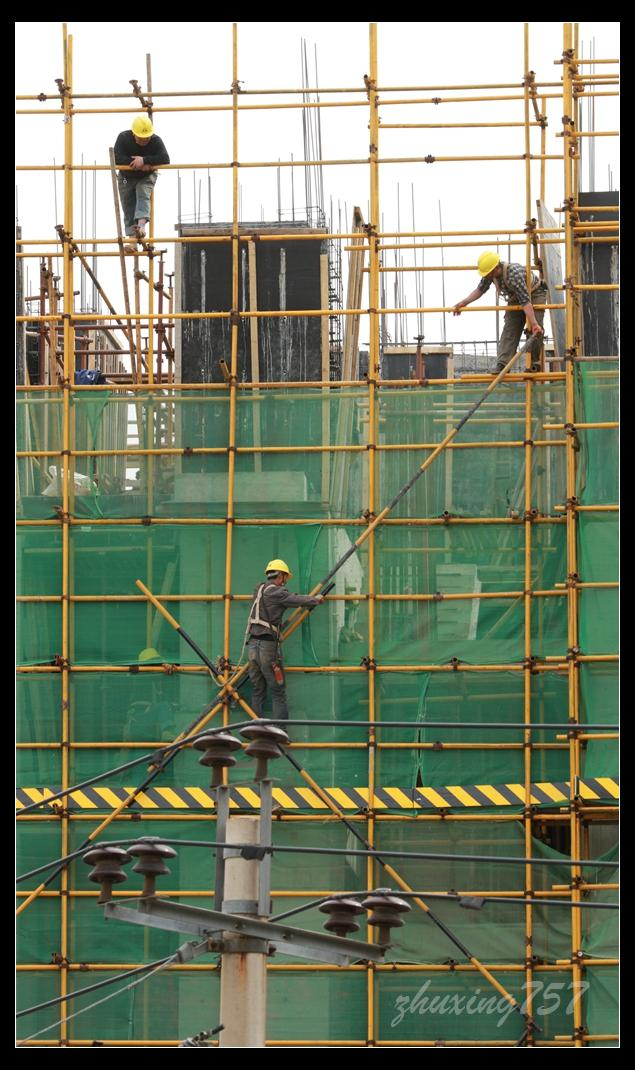helmet: (476, 252, 501, 281), (266, 559, 293, 585), (132, 117, 154, 140)
